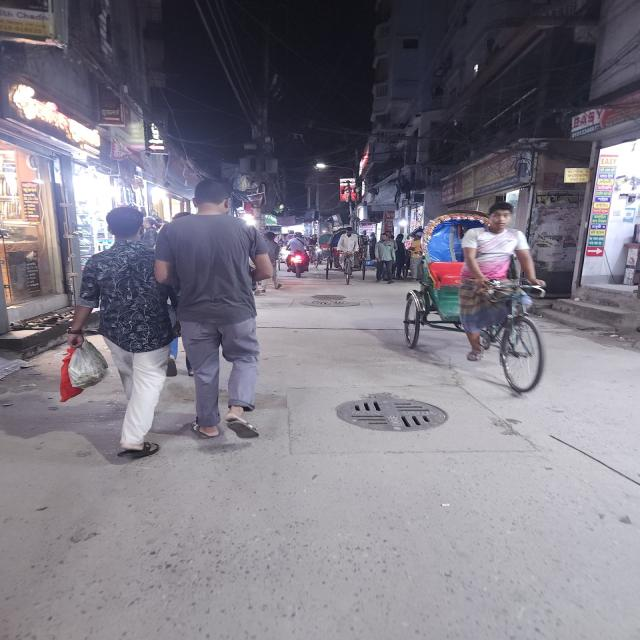motorcycle: (284, 232, 312, 278)
pedestrian: (51, 194, 172, 458), (165, 178, 266, 448), (374, 232, 396, 284), (392, 232, 410, 279)
rickshaw: (406, 197, 556, 403), (323, 228, 367, 284)
